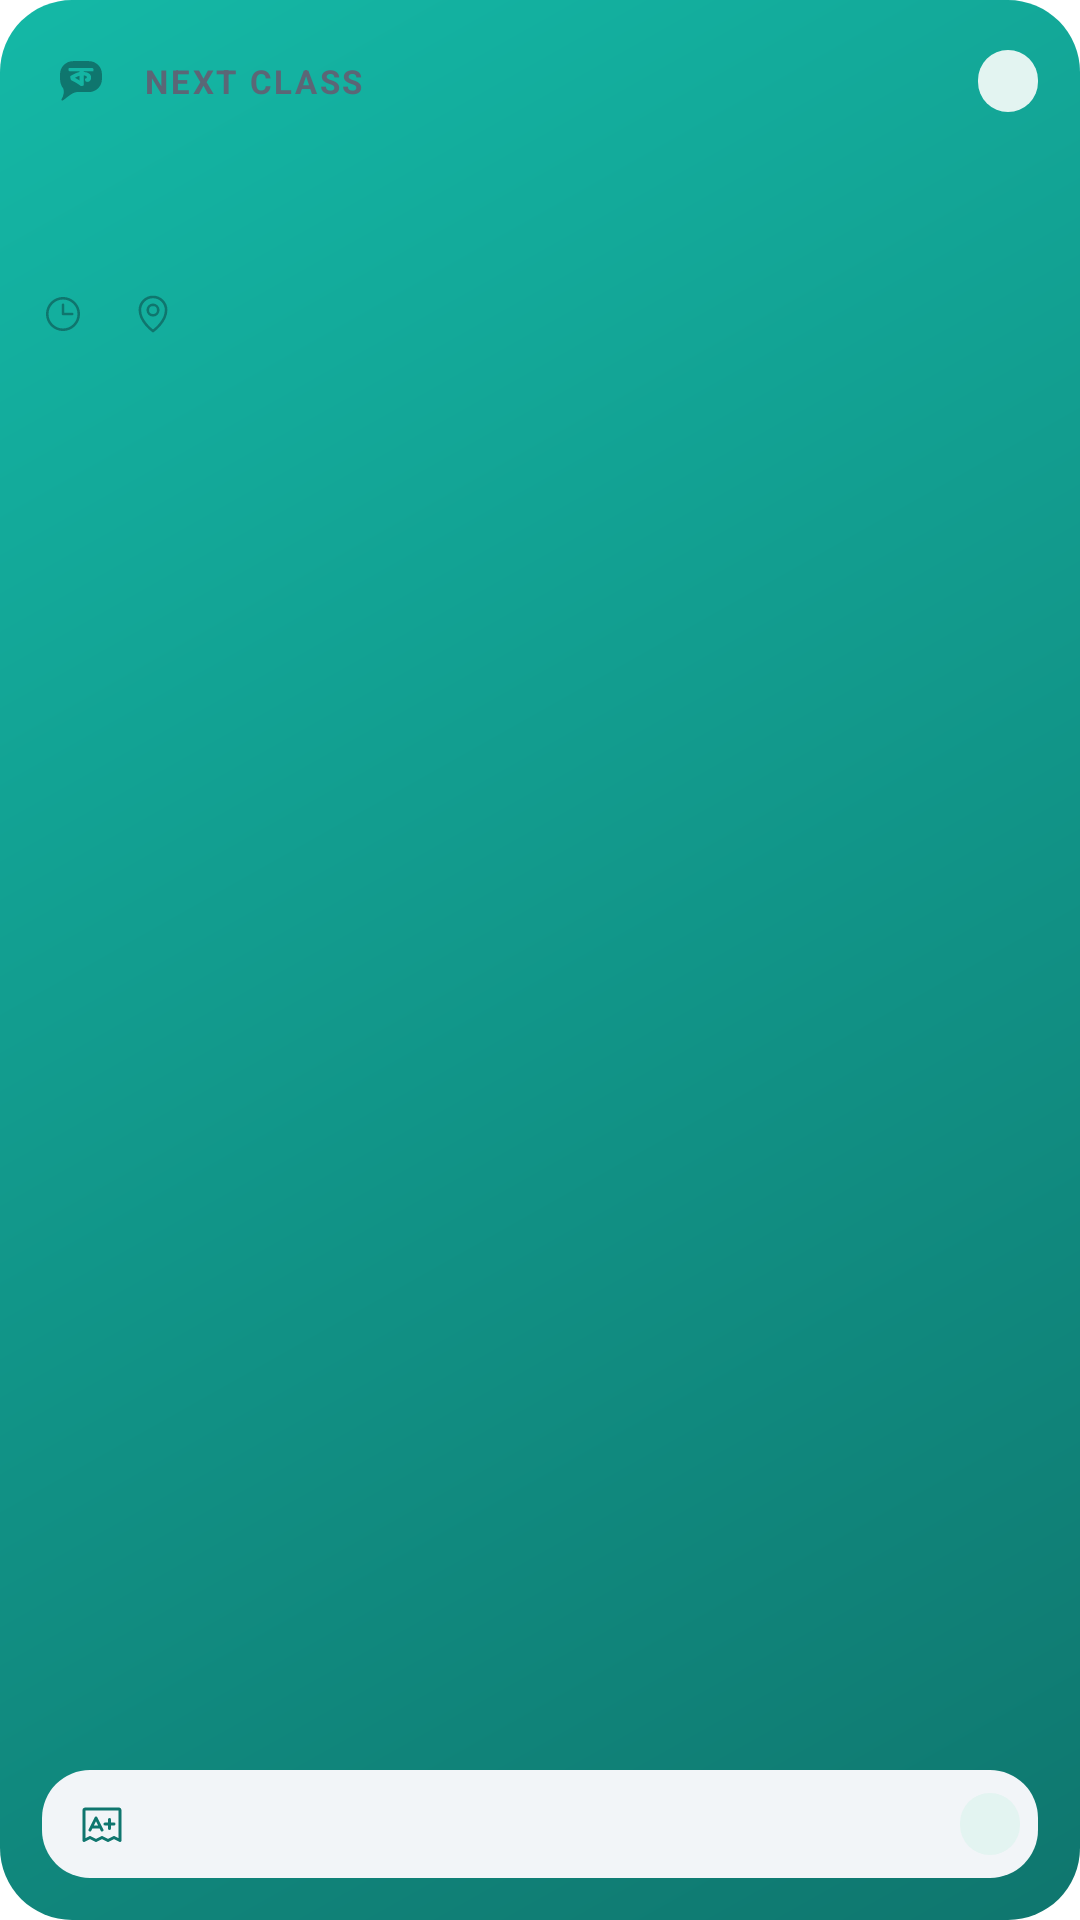

Point at icon controls on the screen. Image size 1080px x 1920px, points as (x=x, y=y).
widget clock: (x=63, y=314)
widget place: (x=153, y=314)
